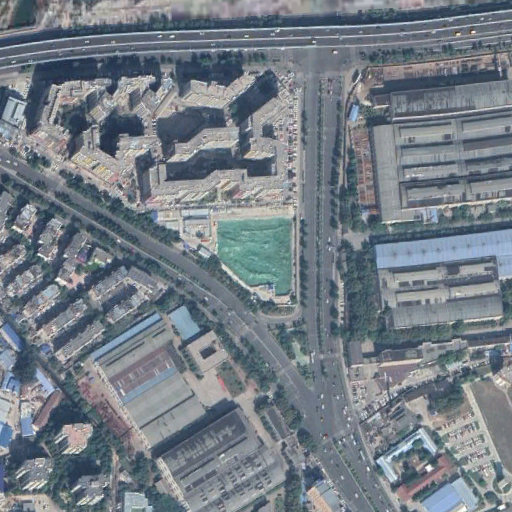cw: (217, 216, 296, 296)
